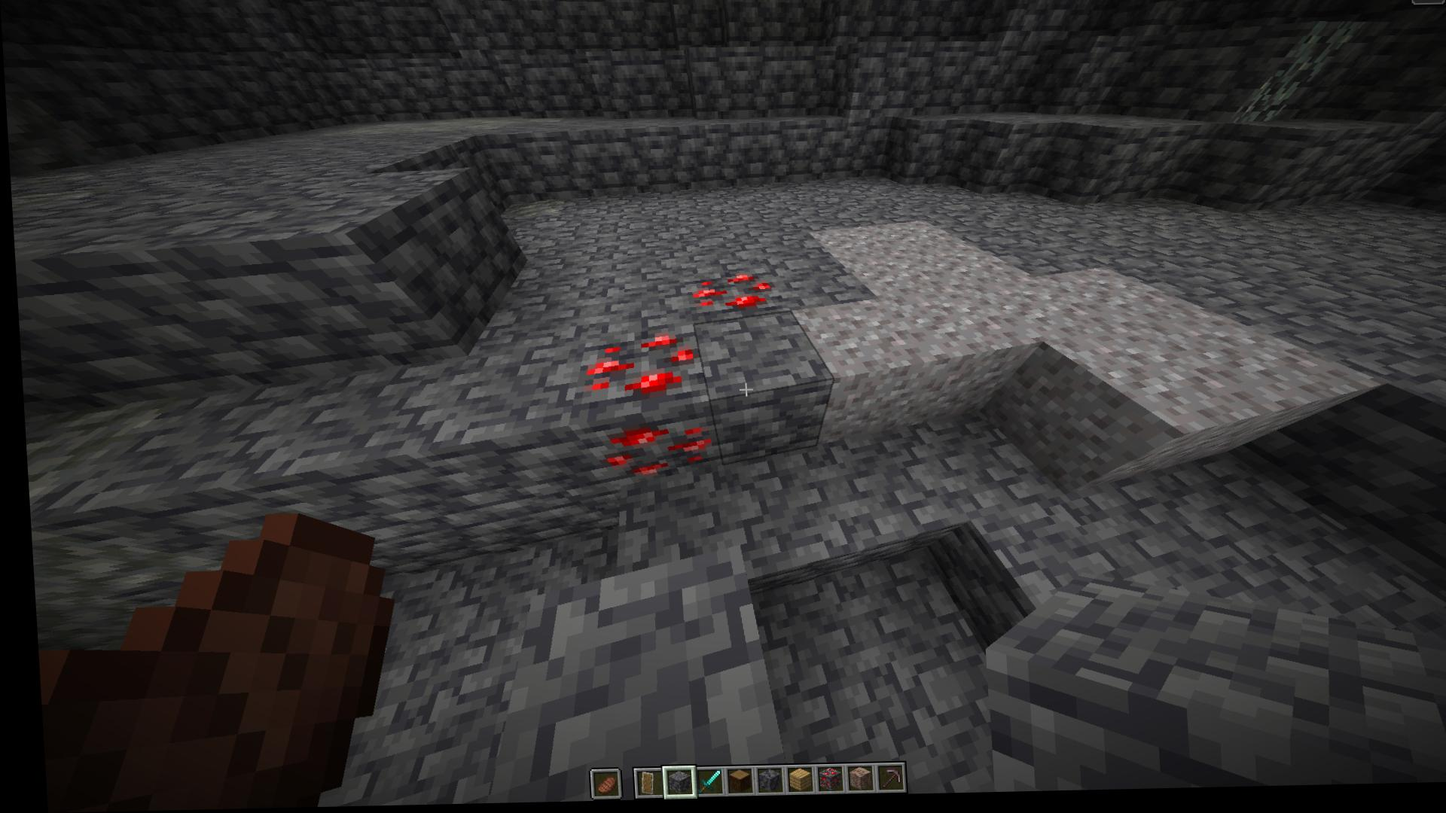redstone ore: (582, 337, 701, 412), (588, 420, 707, 478), (685, 272, 784, 321)
